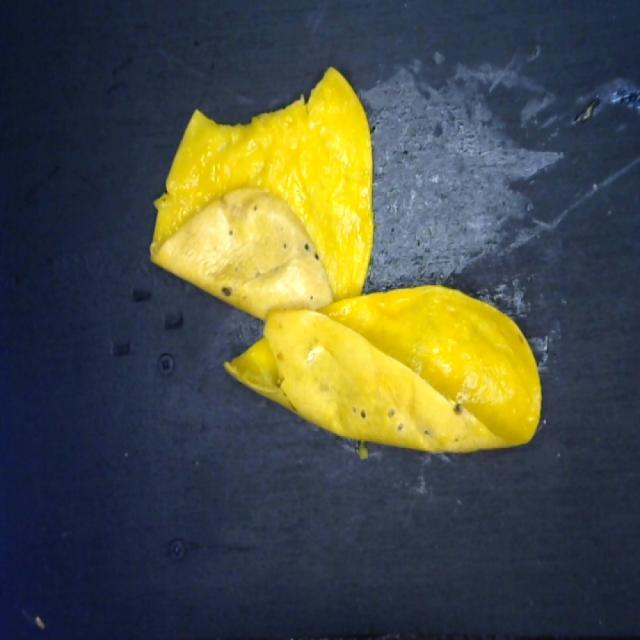biodegradable: (142, 59, 544, 460)
